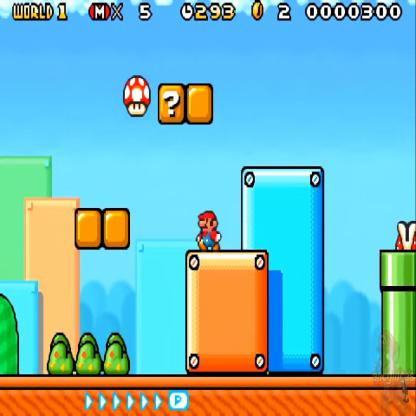Mario: (195, 207, 224, 254)
hongo: (122, 75, 151, 122)
moneda: (250, 1, 266, 24)
planta carnivora: (395, 220, 416, 252)
